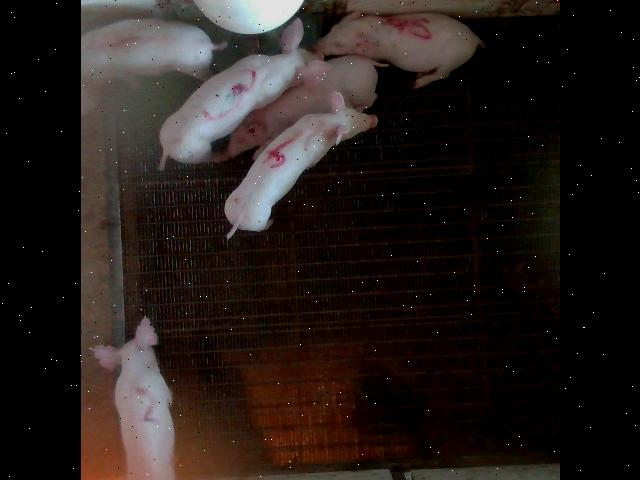pig-1: (81, 19, 225, 79)
pig-2: (92, 318, 175, 480)
pig-3: (159, 19, 329, 164)
pig-4: (224, 92, 376, 239)
pig-5: (312, 12, 482, 89)
